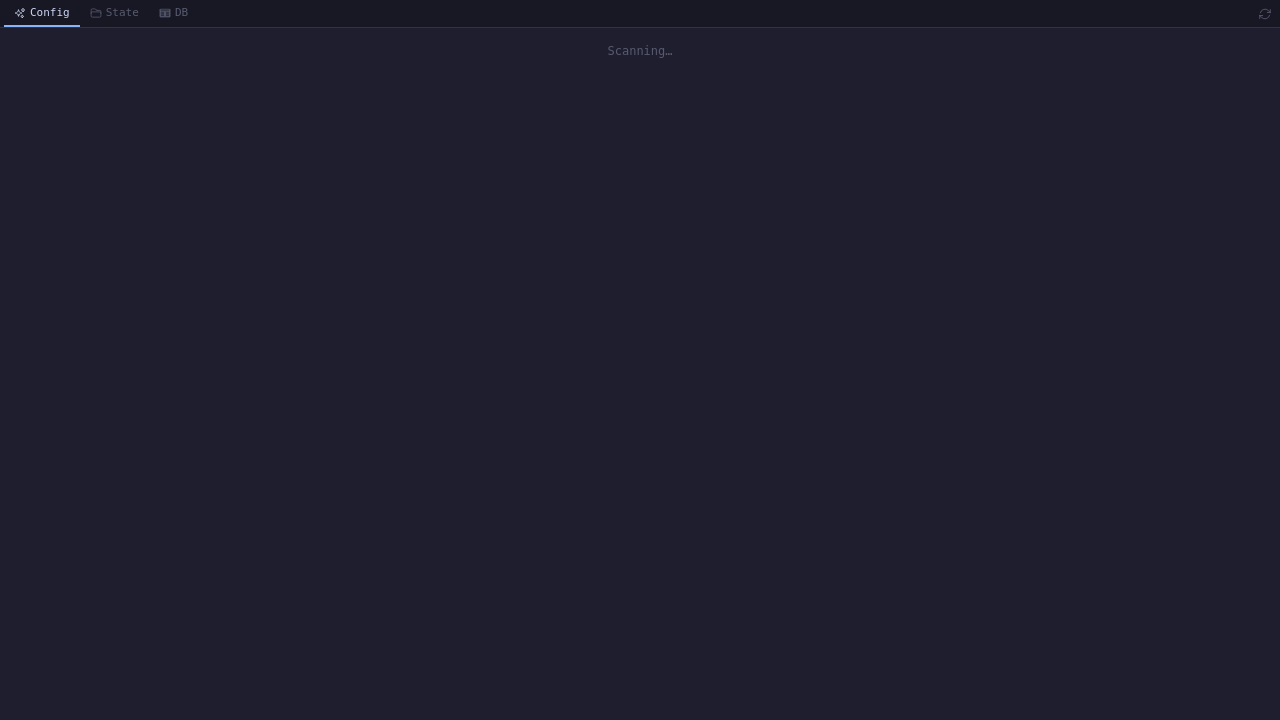
Test: SessionMetaTile editable live files (State tab) › closes the open file view when switching to another tab
Click the button "State": click(114, 14) [80,0,149,27]
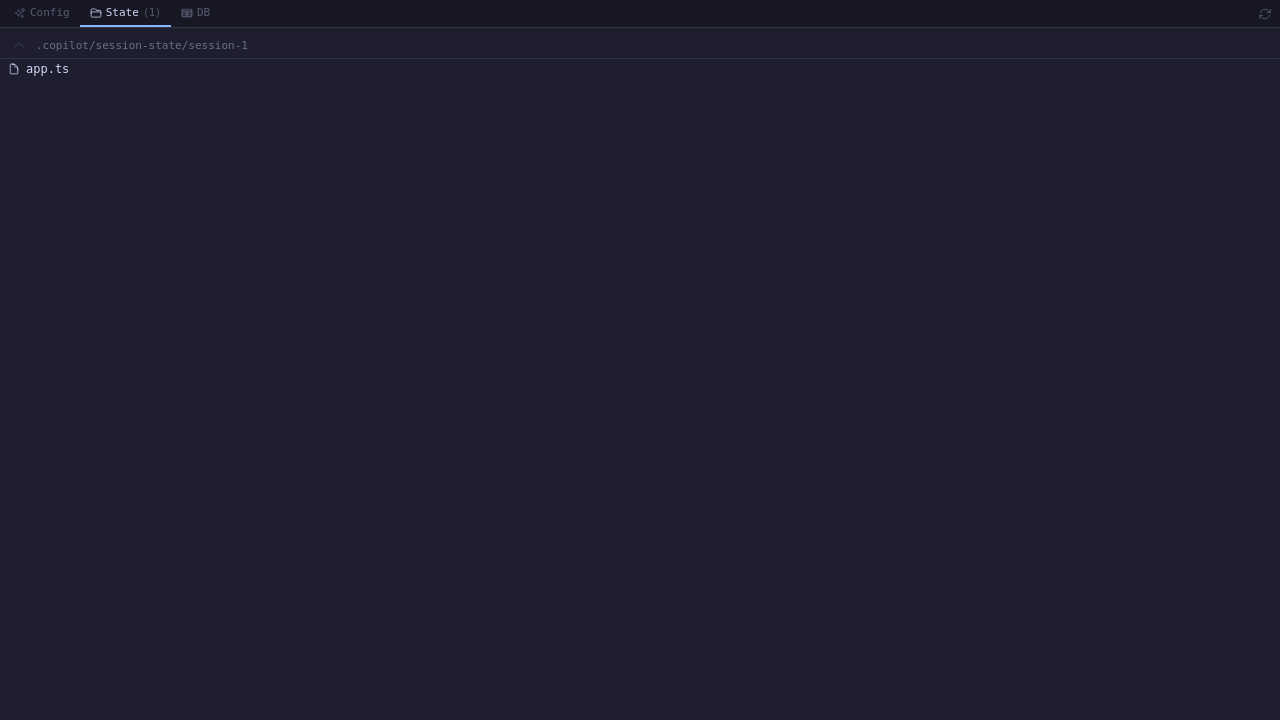
Click the text "app.ts": click(48, 69) [26,62,69,76]
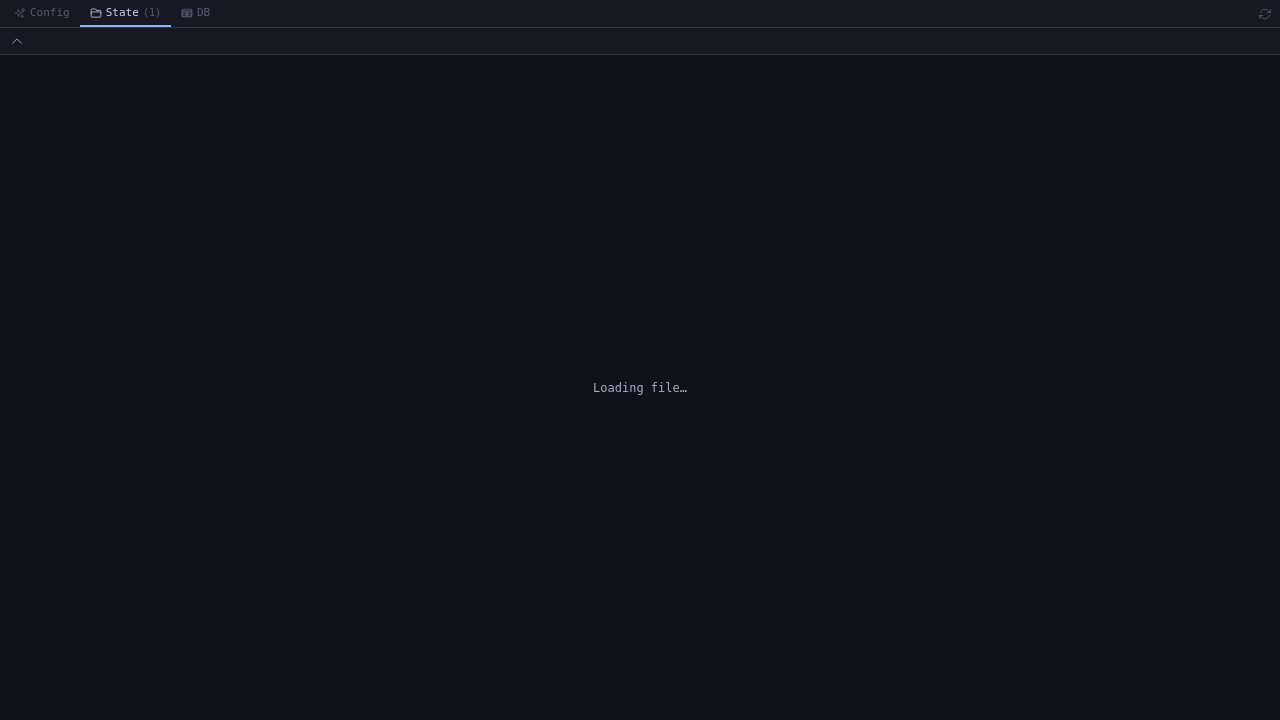
Now the element with test id "file-editor-view" is shown
Click the button "Config": click(42, 14) [4,0,80,27]
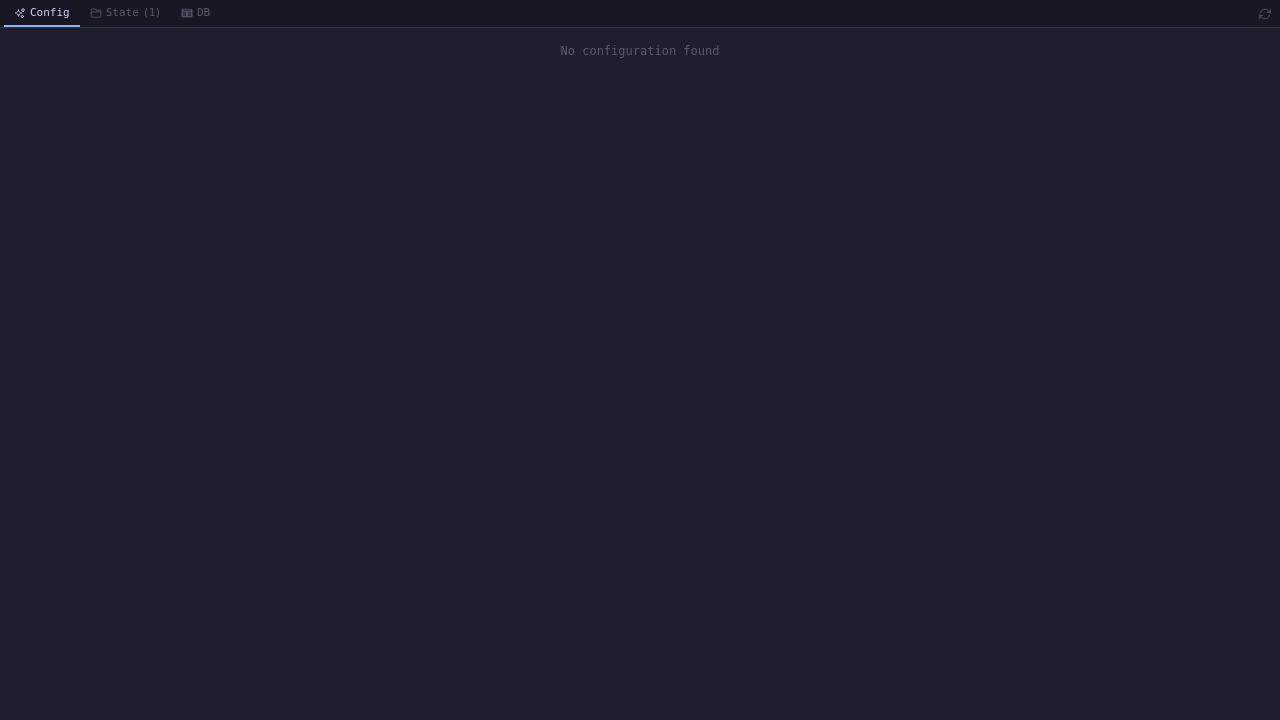
Now the element with test id "file-editor-view" is gone
